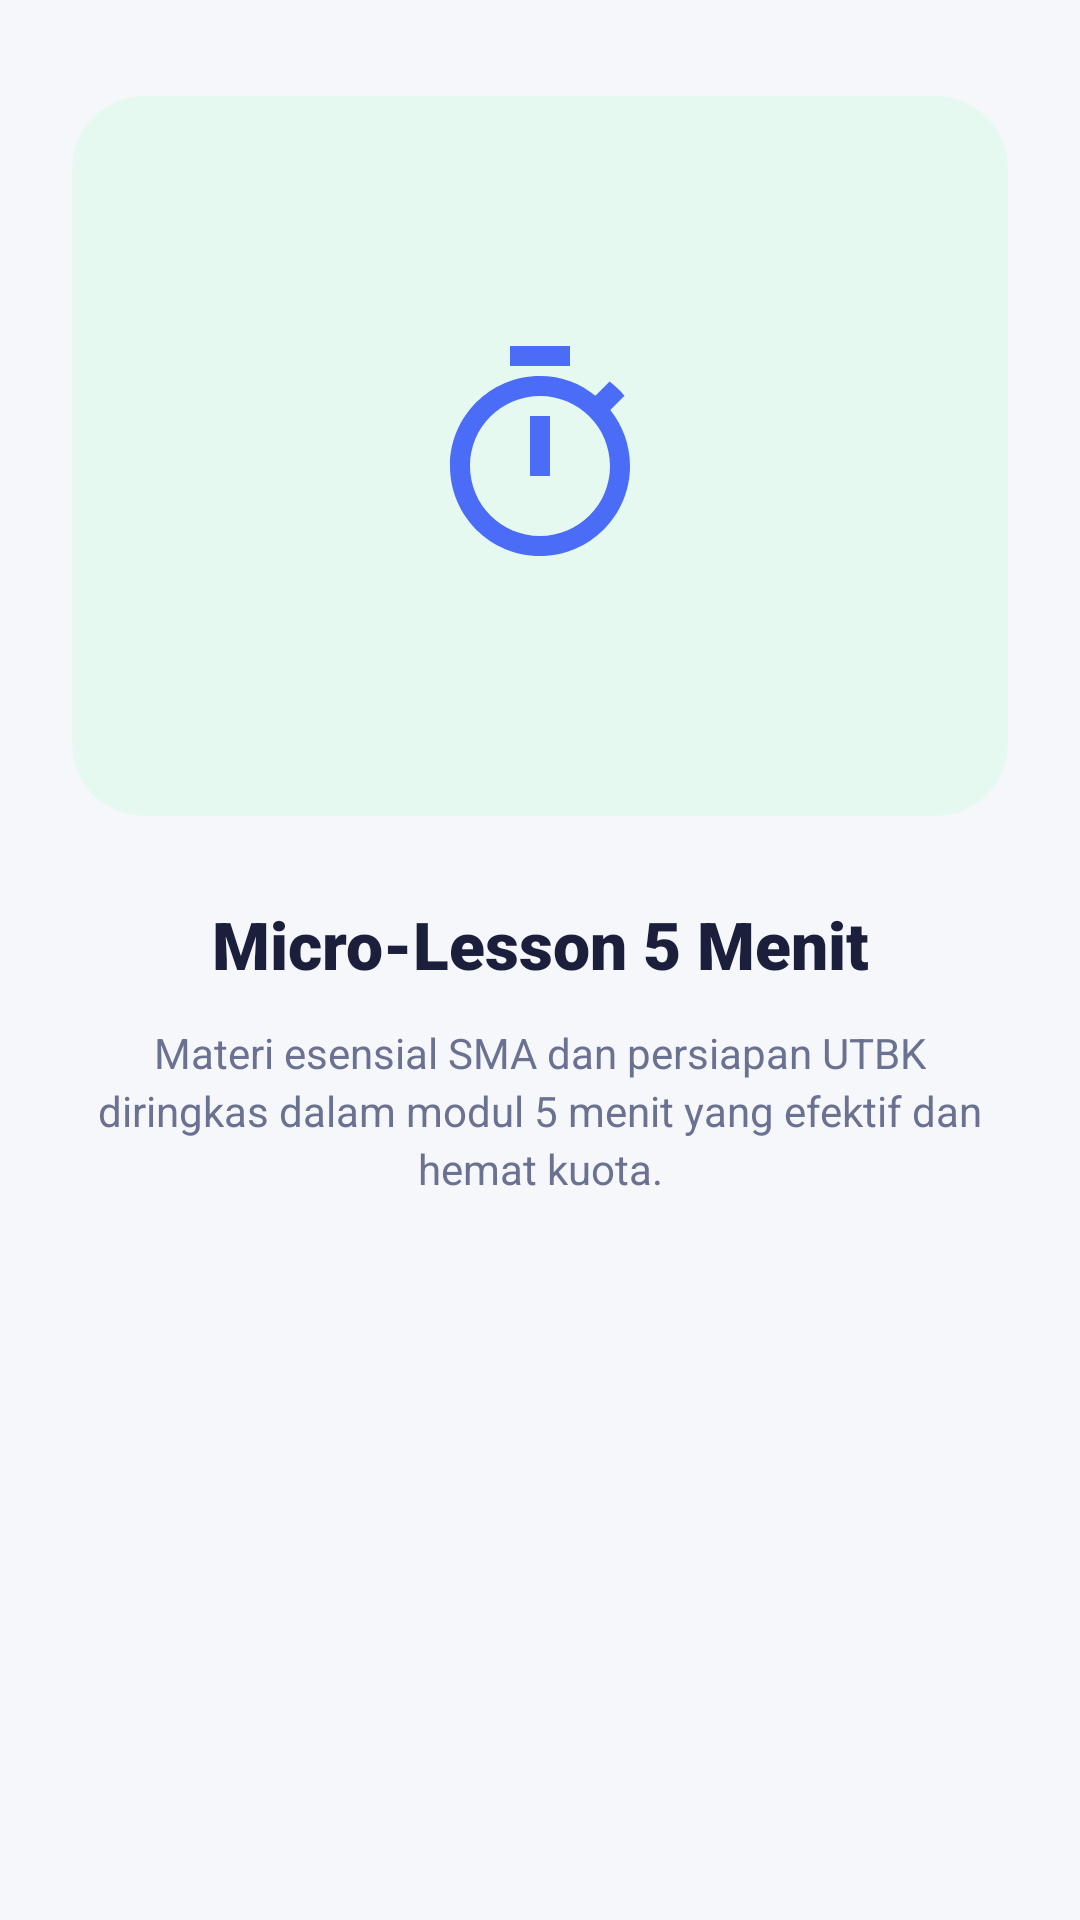

Icon bounding boxes for this 1080 × 1920 phone screenshot, format (x1, y1, x2, y2):
Ikon Micro-lesson: (450, 346, 630, 556)
